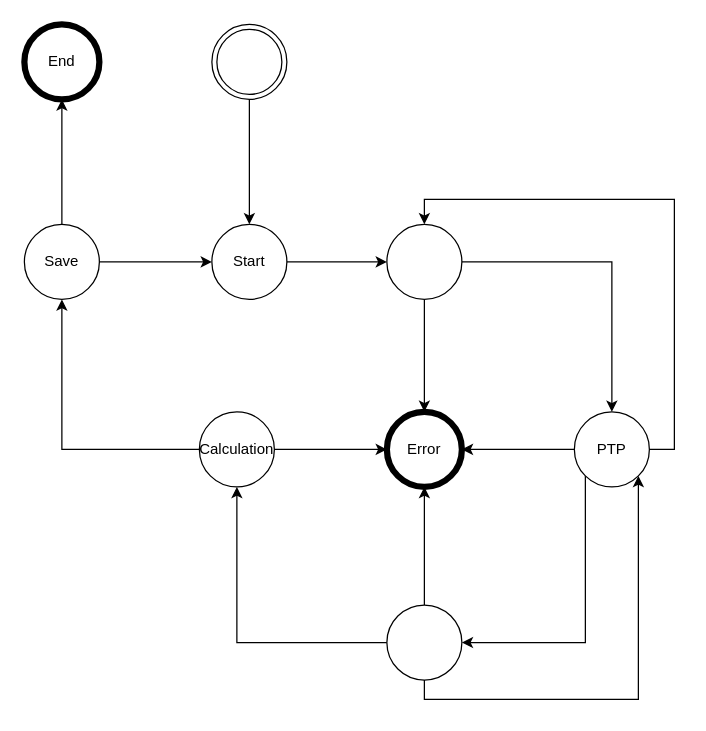
Image size: 706x731. Some labels were removed from this diagram. Here are the shapes that lost their labels. From the top down, the box of each, then its label:
(211, 23, 287, 99): Setup
(386, 223, 462, 299): NTP
(386, 604, 462, 680): Check
